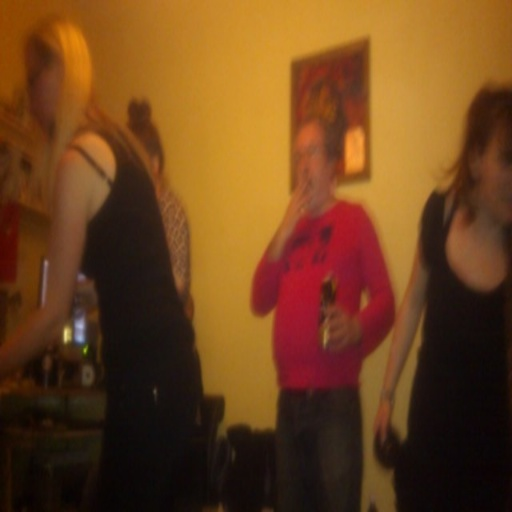hand: (380, 381, 413, 462), (279, 172, 313, 240), (320, 300, 355, 357)
